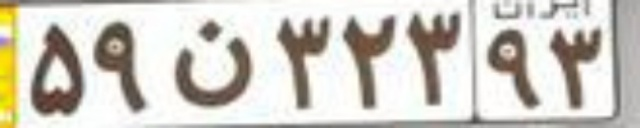2: (343, 14, 394, 110)
3: (406, 11, 464, 106), (275, 15, 333, 109), (547, 26, 606, 110)
5: (25, 22, 85, 116)
9: (88, 21, 146, 112), (482, 27, 541, 108)
non: (170, 18, 257, 108)
